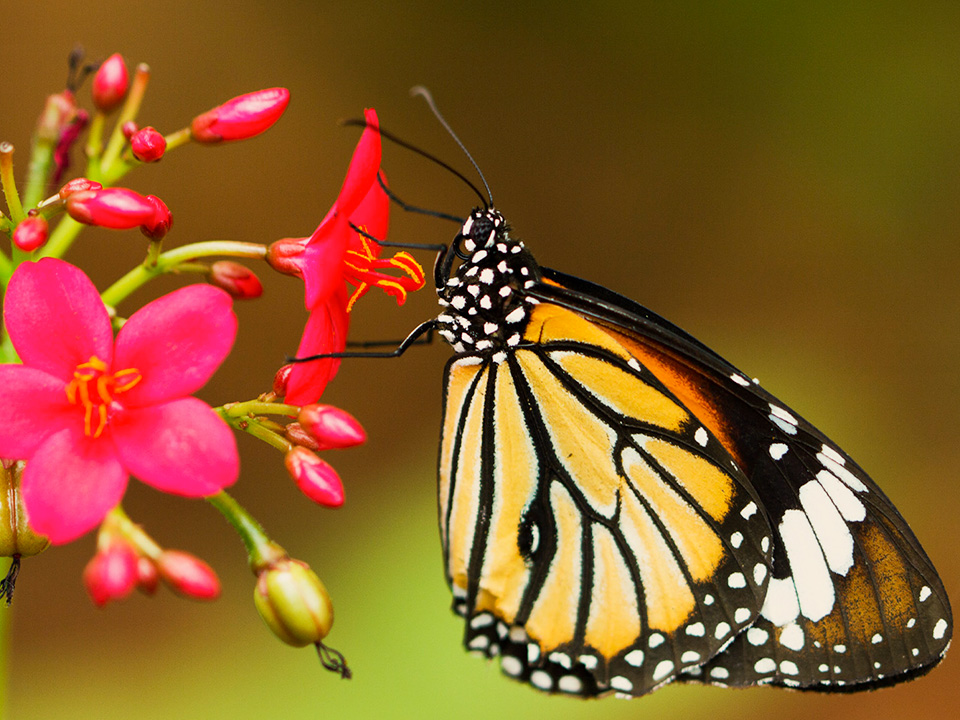Butterfly: (287, 81, 959, 708)
